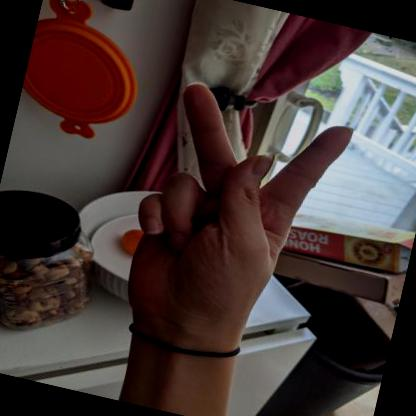K: (128, 83, 353, 346)
